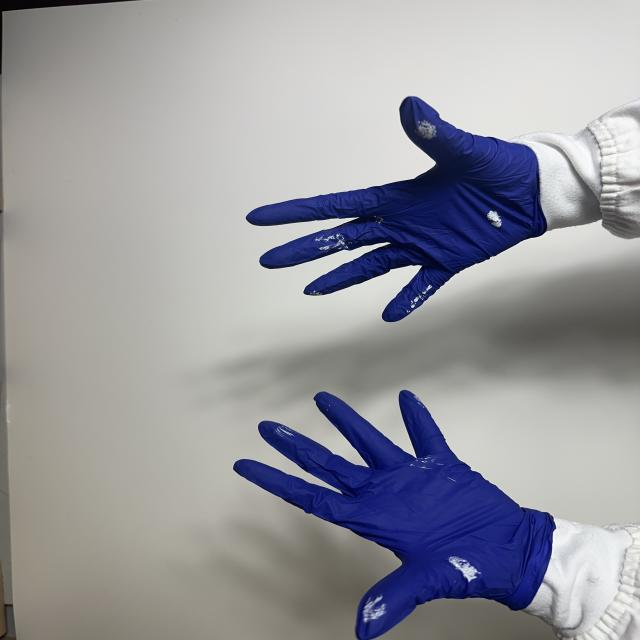gloves_contaminated: (234, 391, 555, 640), (248, 98, 550, 322)
